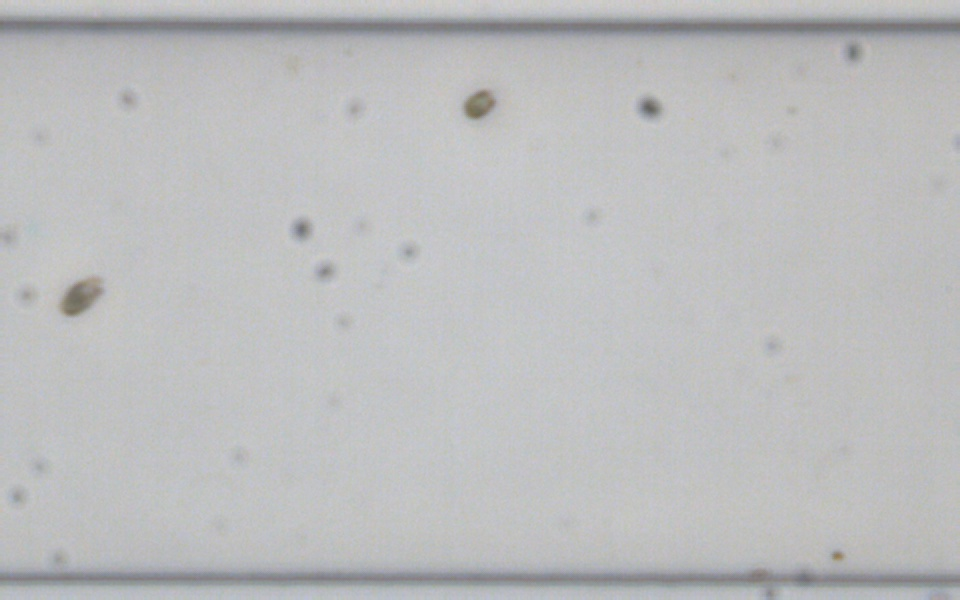Dunaliella salina: (60, 269, 105, 317), (459, 84, 500, 120)
